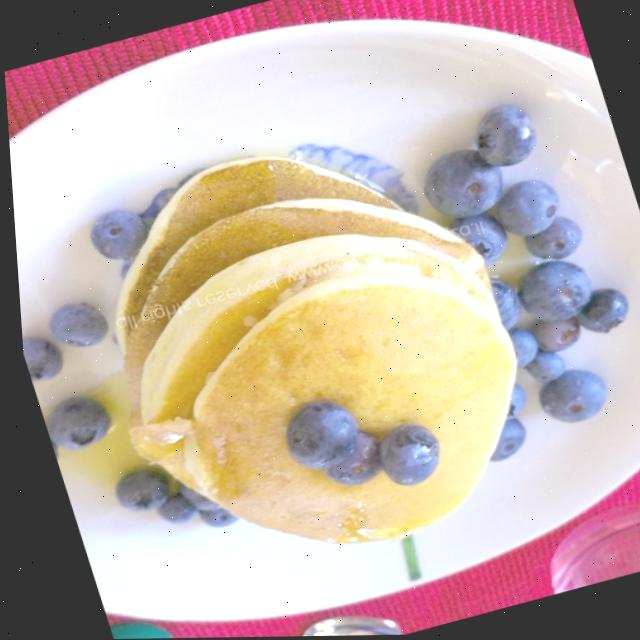蛋糕甜品: (39, 70, 614, 611)
